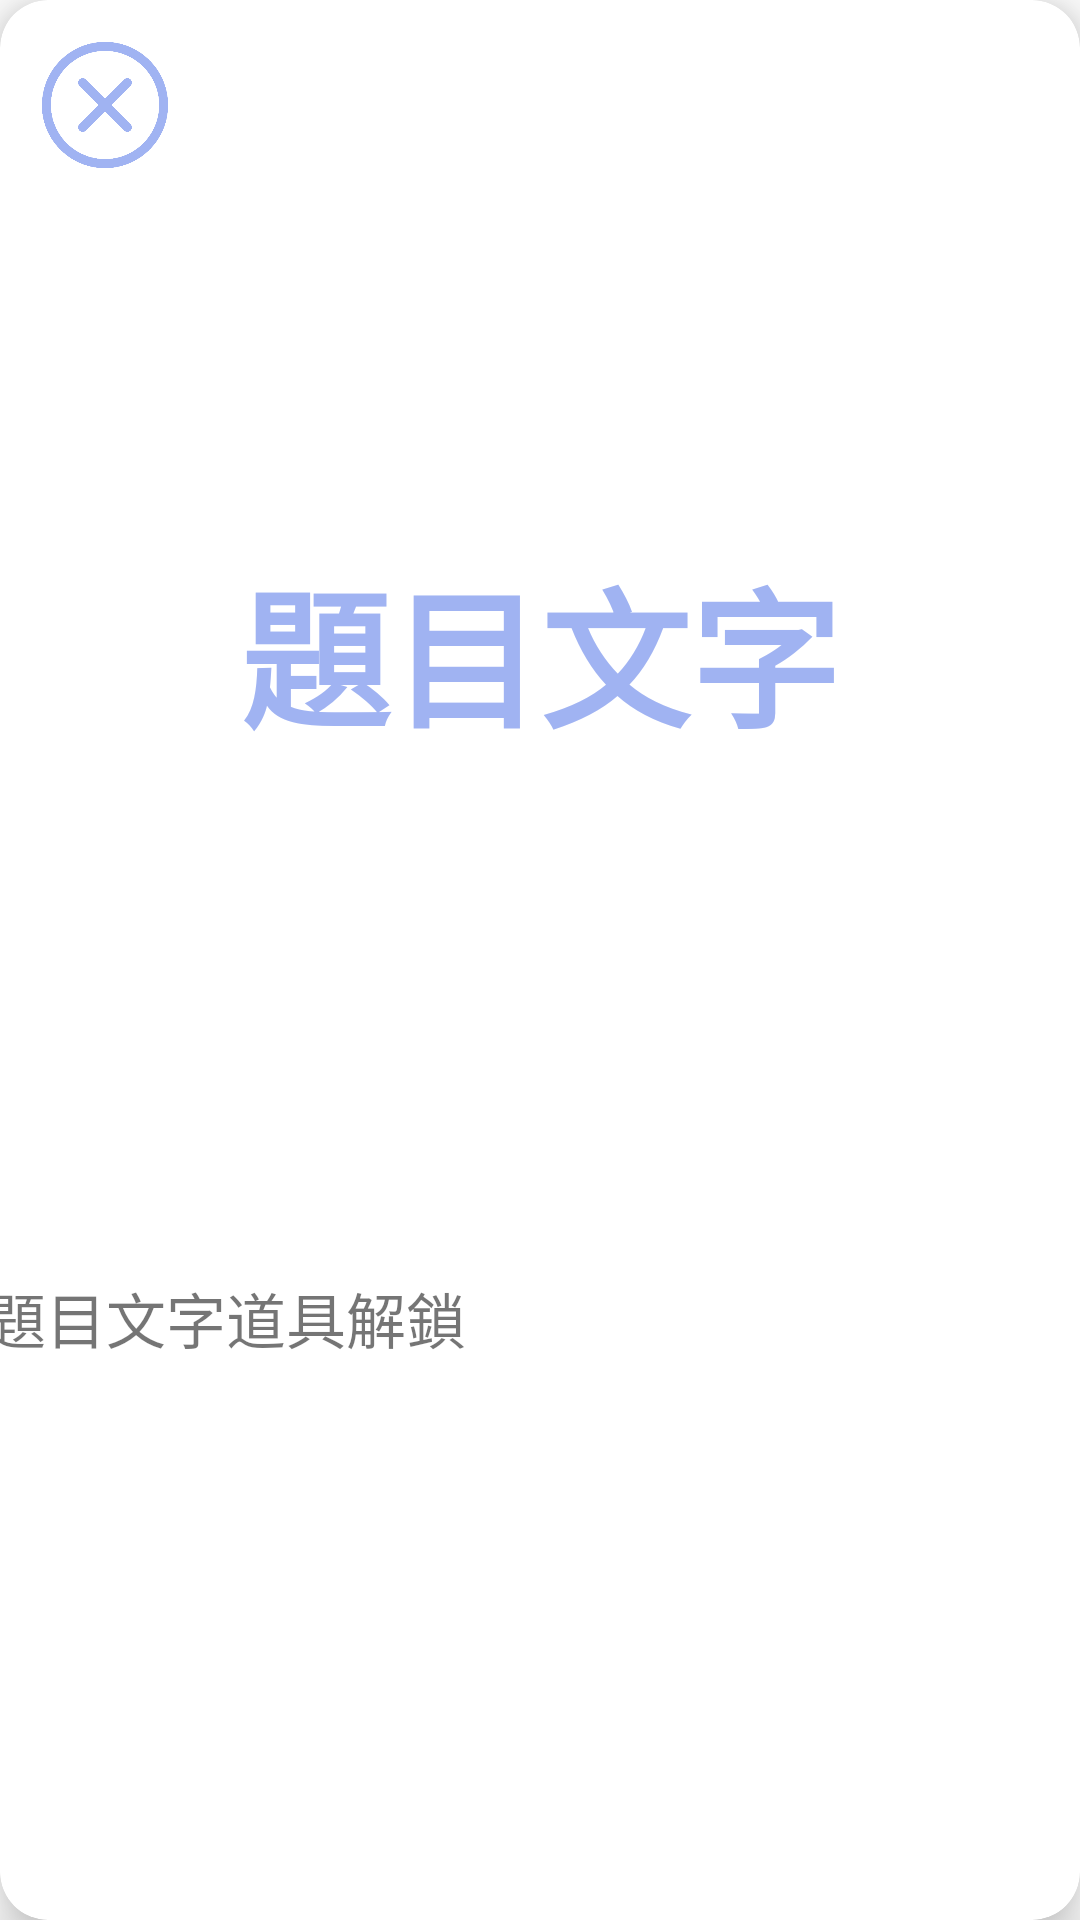

Point at icon controls on the screen. Image size 1080px x 1920px, points as point (x, y).
close: point (105, 105)
